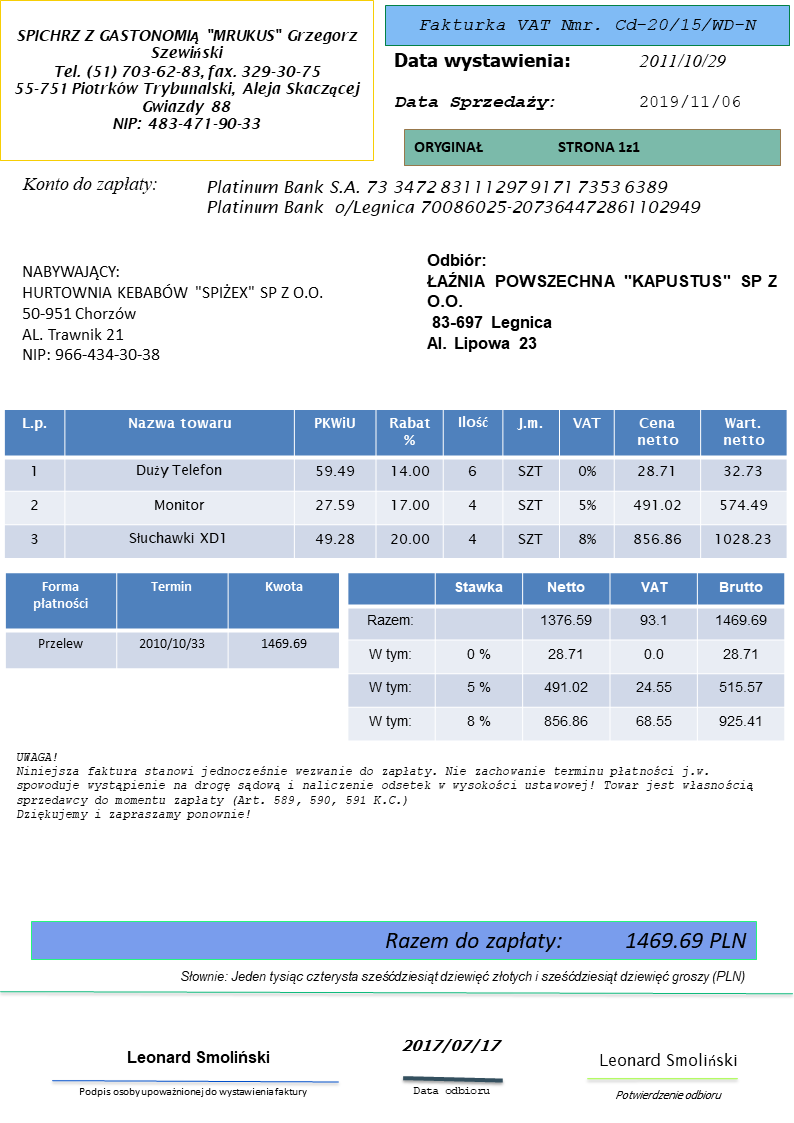Table: (2, 407, 789, 560), (346, 572, 784, 742), (3, 571, 339, 670)
TextBox: (13, 749, 759, 822), (422, 249, 784, 354), (11, 26, 365, 132), (17, 260, 328, 365), (203, 176, 703, 218), (178, 967, 747, 988), (381, 927, 748, 954), (415, 15, 761, 35), (391, 49, 573, 73), (74, 1083, 309, 1100), (409, 138, 643, 155), (390, 91, 557, 114), (123, 1045, 273, 1068), (595, 1049, 739, 1072), (20, 173, 157, 197), (636, 91, 744, 113), (400, 1035, 503, 1056), (635, 49, 728, 72), (612, 1087, 724, 1104), (409, 1082, 492, 1099)
